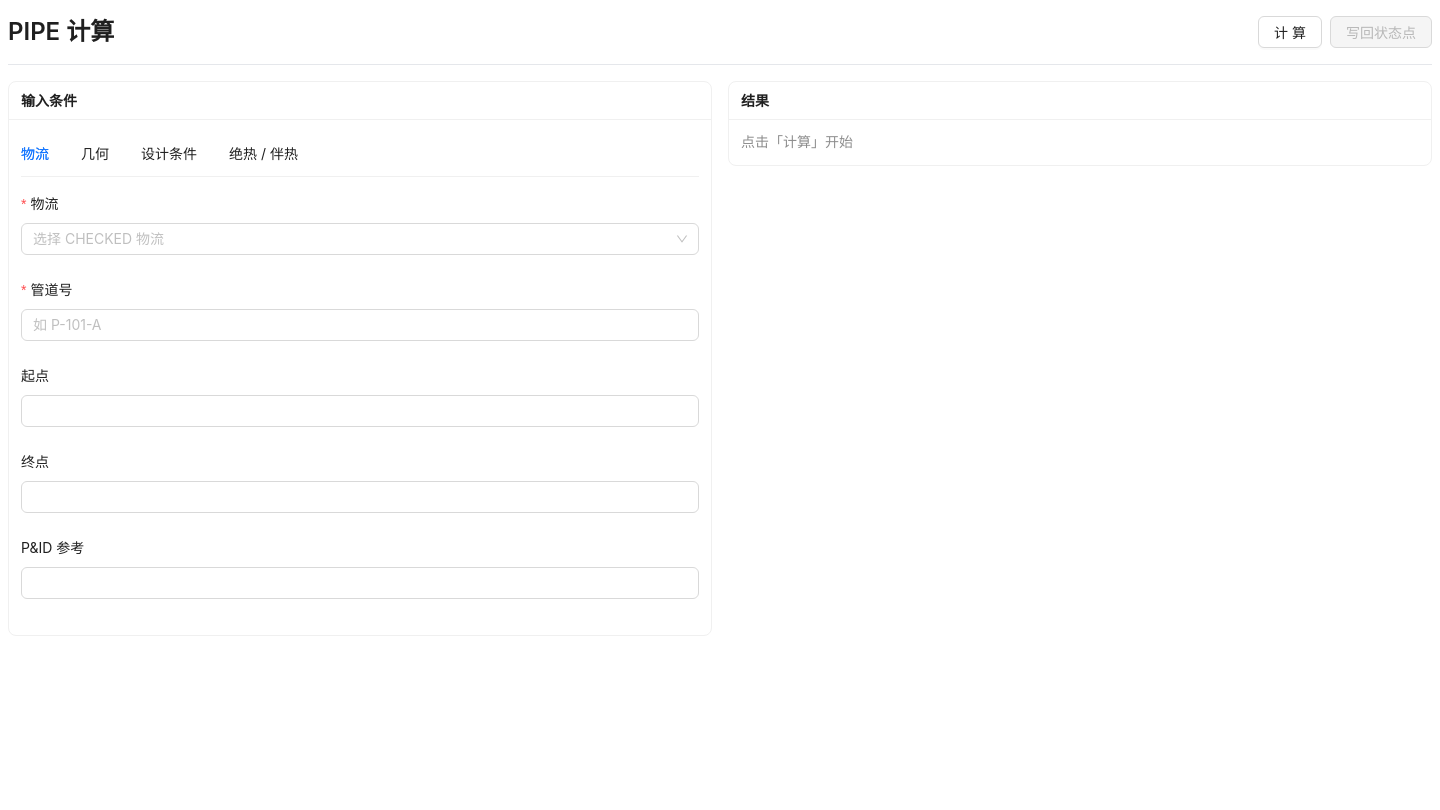
Test: PipeComputePage — 几何 Tab › 切到「几何」Tab：显示长度 + 粗糙度 + 许用压降
Step 1. Click the tab with test id "pipe-input-tab-geometry" → {"x": 95, "y": 154}, box [81,143,109,165]
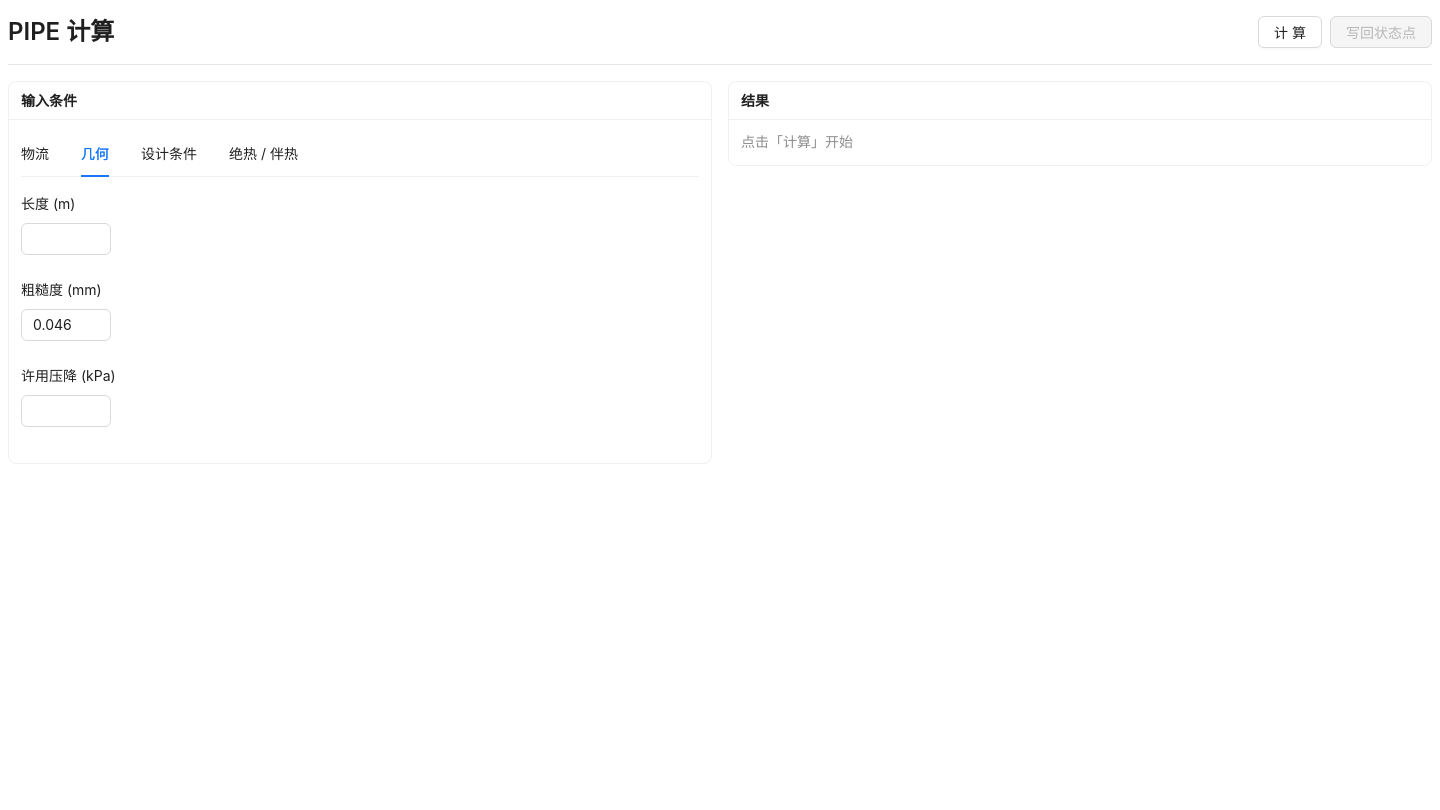
Expected: the number field with test id "pipe-length" is shown, [22,224,110,254]
Expected: the number field with test id "pipe-roughness" is shown, [22,310,110,340]
Expected: the number field with test id "pipe-allowable-dp" is shown, [22,396,110,426]
